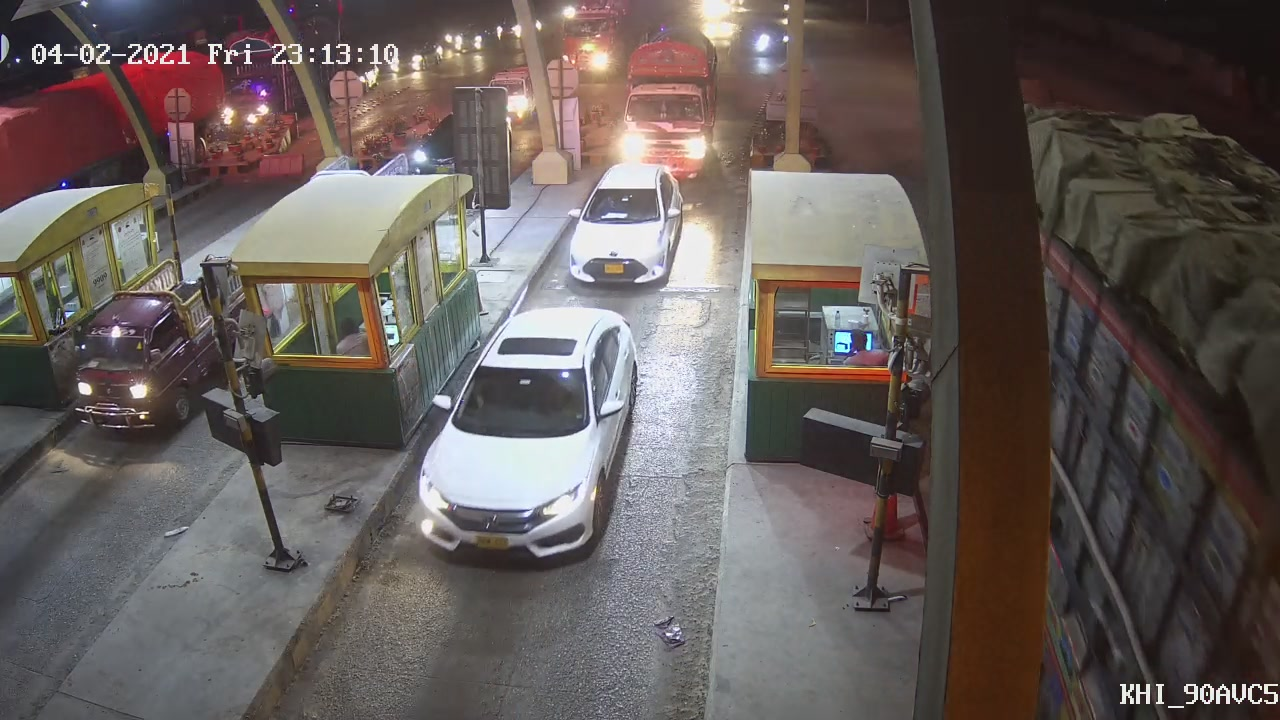F1: (410, 304, 639, 565), (556, 162, 689, 296)
